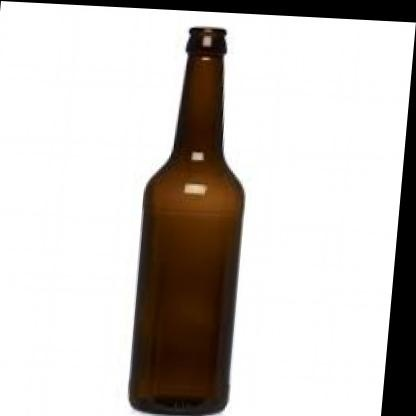trash: (129, 28, 243, 413)
